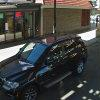Car: (3, 28, 90, 97)
